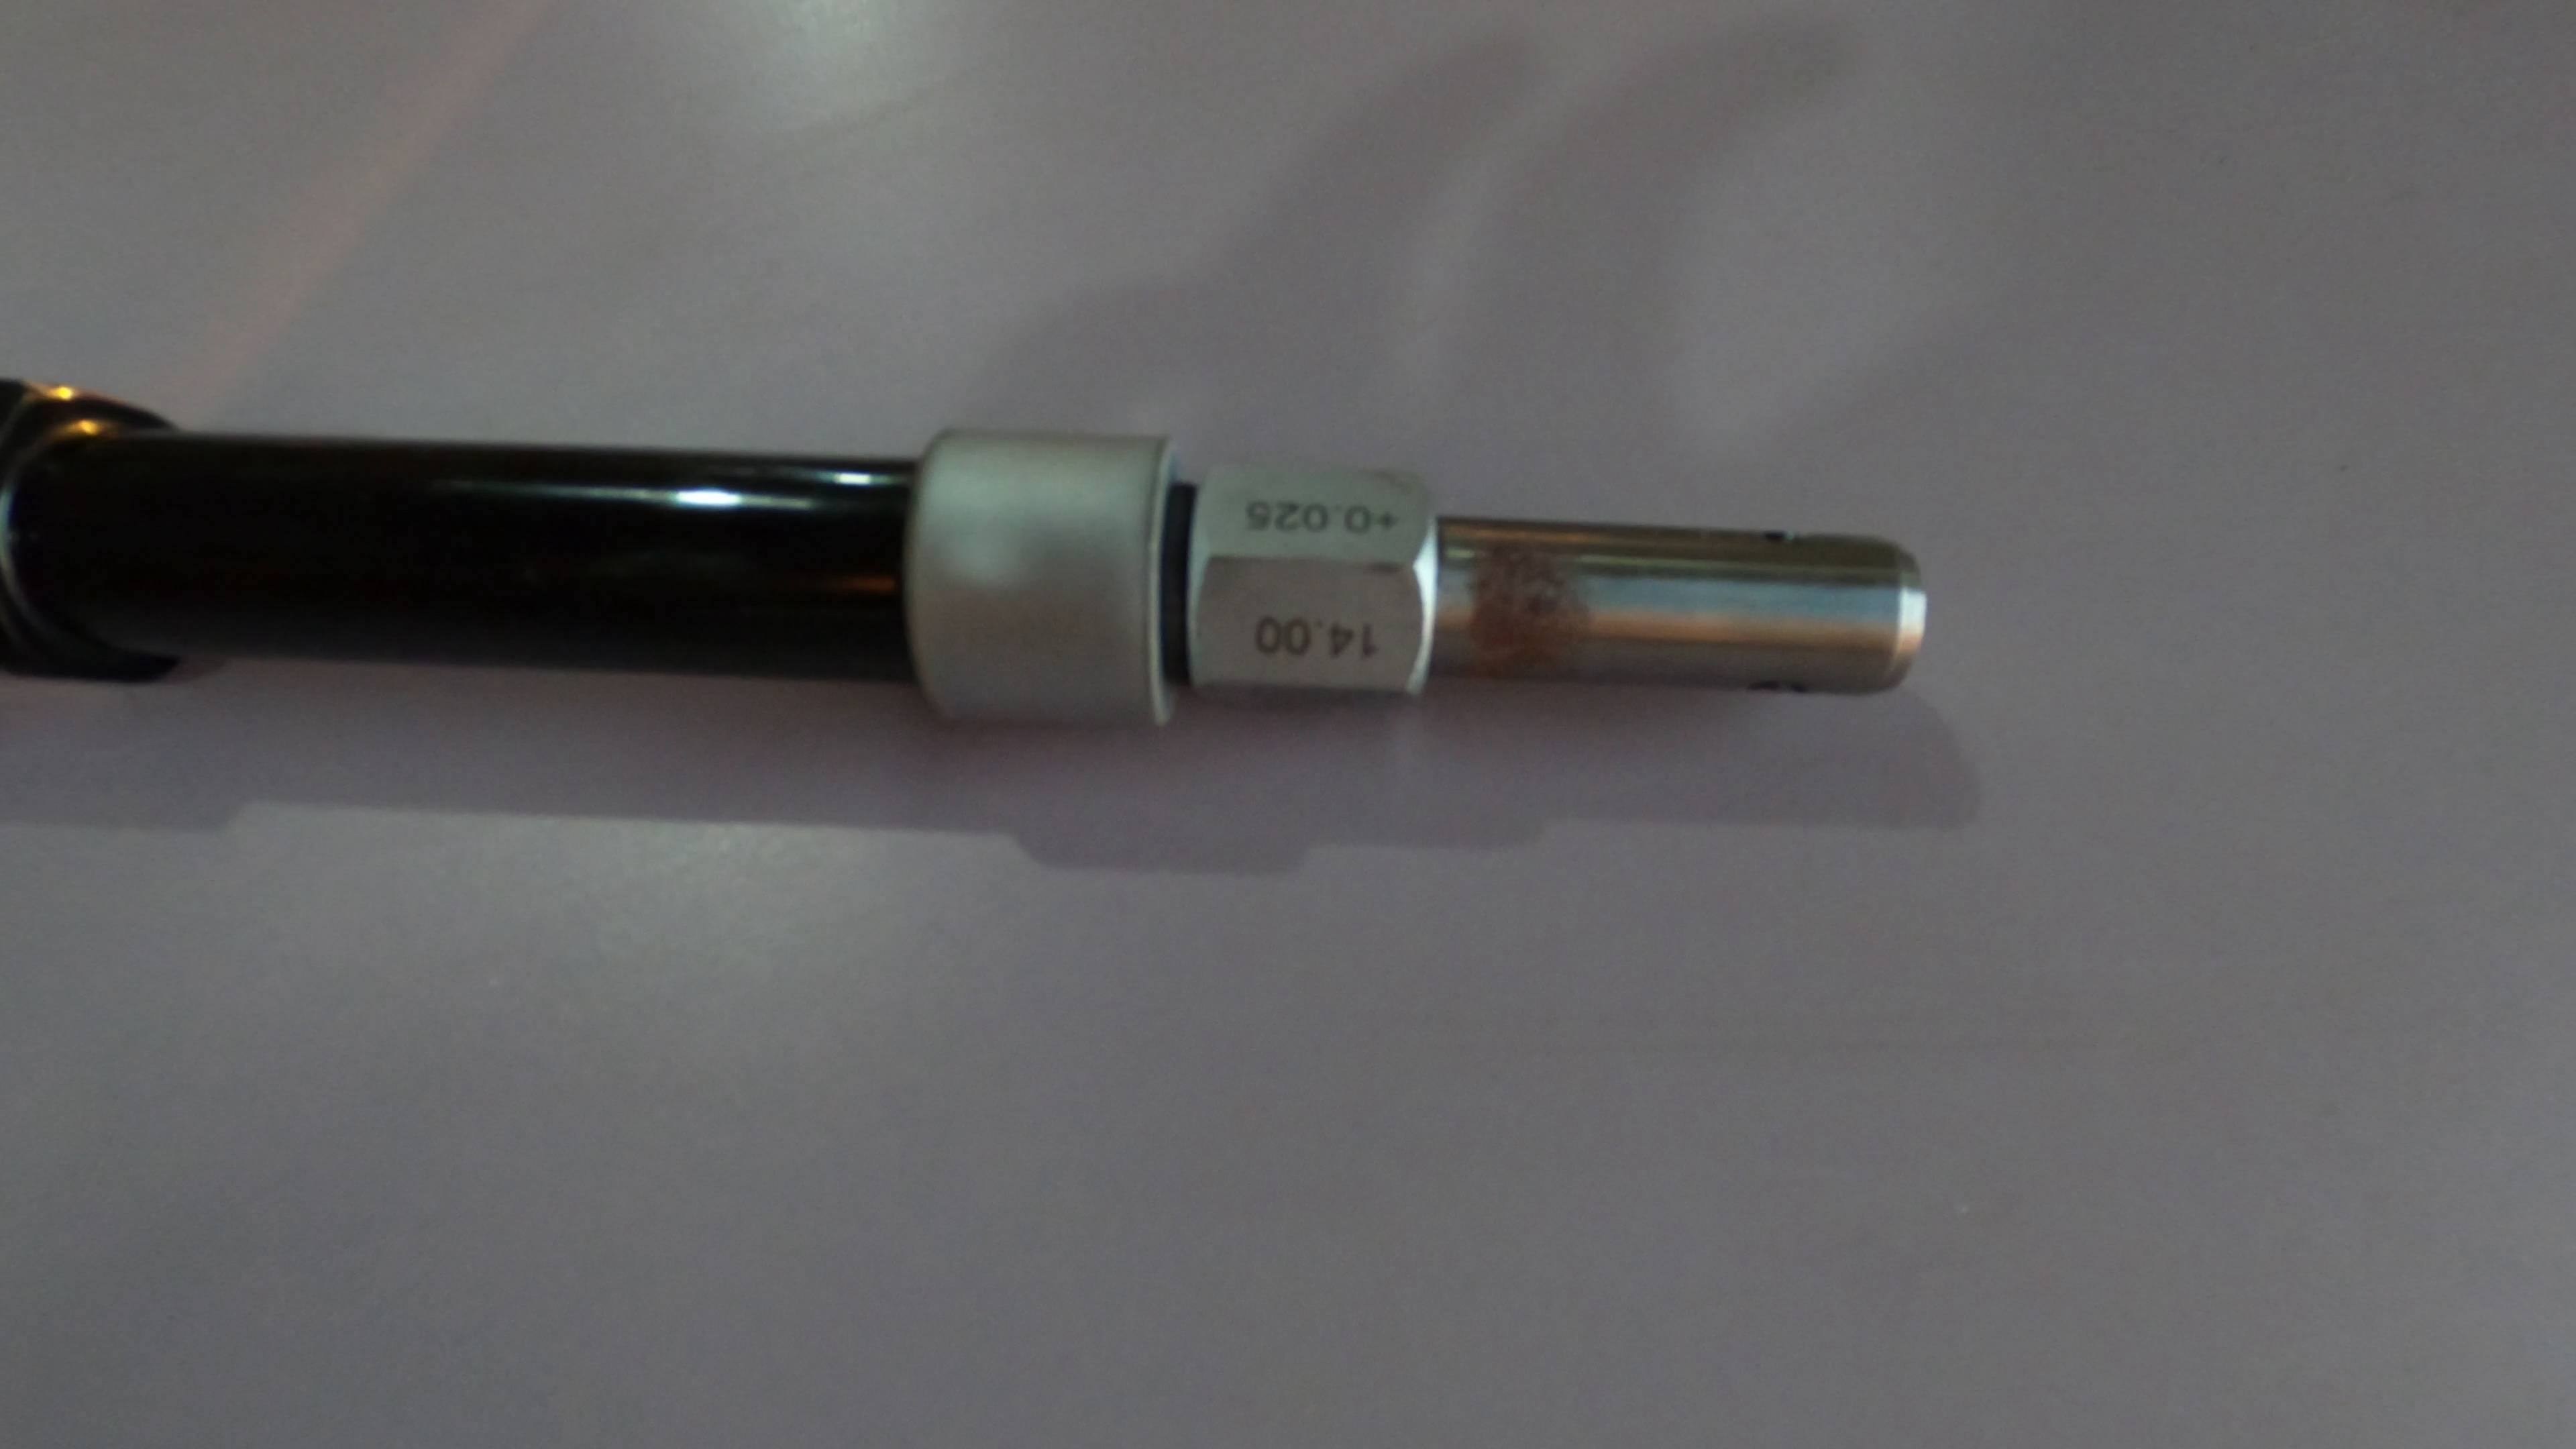air_gauge: (2, 364, 1936, 809)
